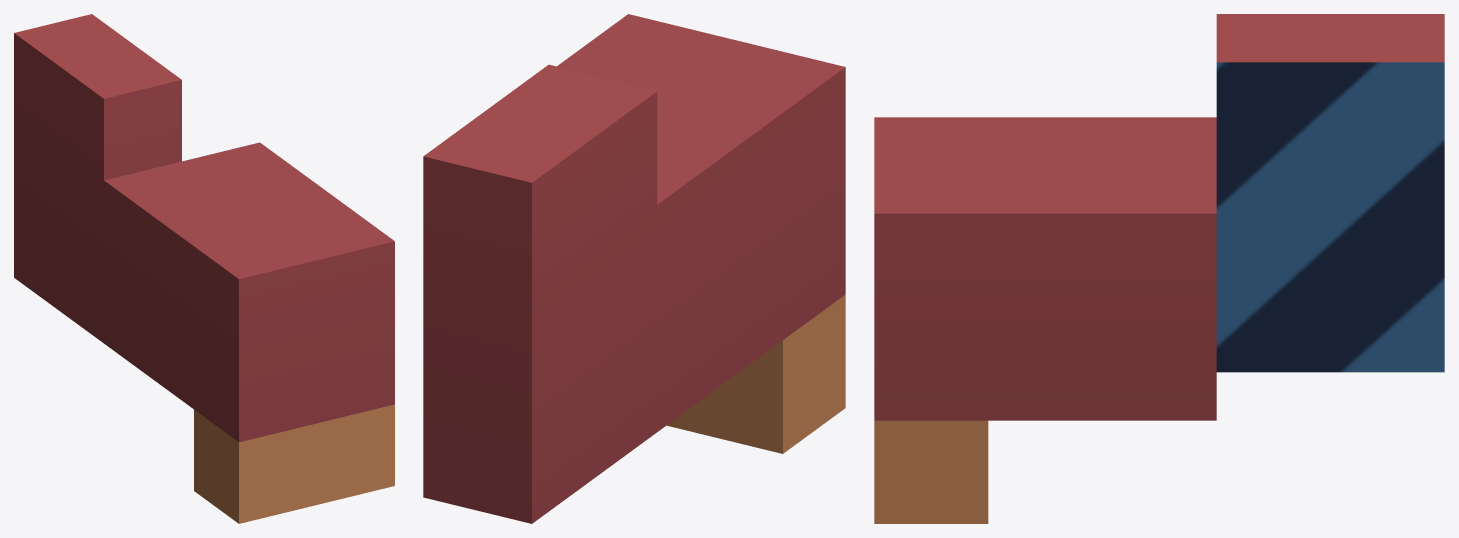
The model's file is PartF.fbx.
3 renders of one model, left to right at view 1: azimuth 30°, elevation 25°; view 2: azimuth 150°, elevation 25°; view 3: azimuth 270°, elevation 25°, orthographic. The views are drawn at different scales.
Parts seen in each view (by area): view 1: PartF; view 2: PartF; view 3: PartF.
Boxes of the visible parts, <box> form: PartF: <box>14,14,394,523</box>; PartF: <box>423,14,845,523</box>; PartF: <box>874,14,1444,523</box>.
Size of the model in its own units: 20 by 40 by 50.
